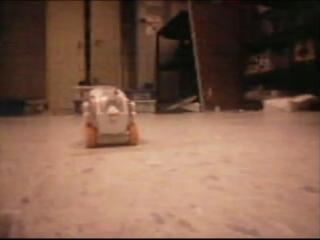cozmo: (74, 84, 140, 148)
